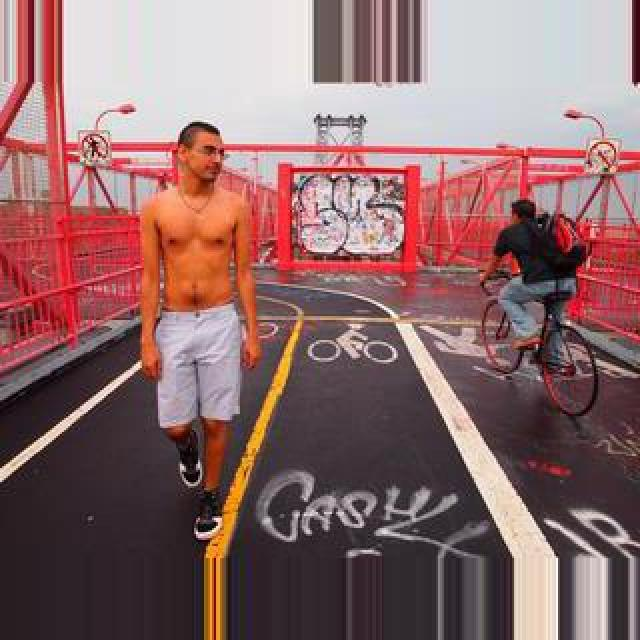MC-Bike: (136, 120, 264, 528), (484, 198, 560, 352)
Person: (479, 278, 599, 416)
